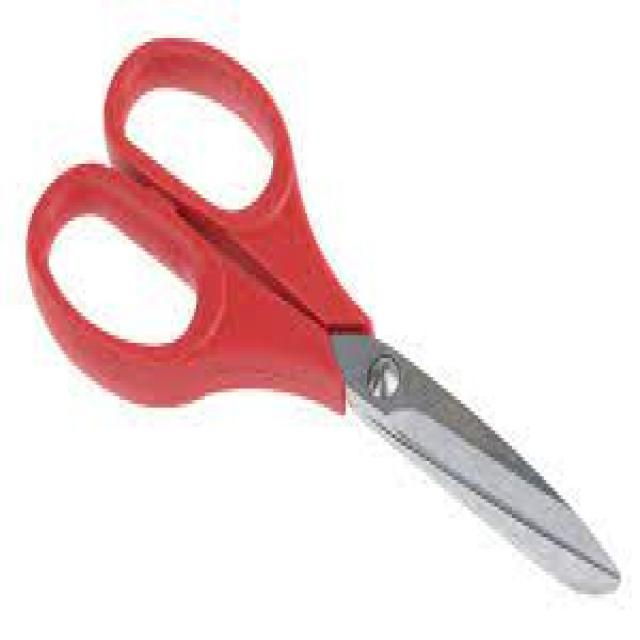scissor: (26, 36, 624, 598)
